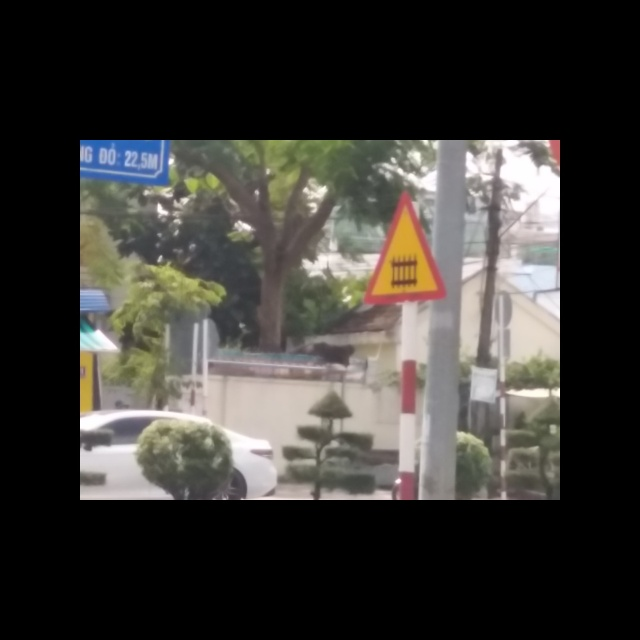Giao nhau với đường sắt có rào chắn: (361, 193, 451, 308)
